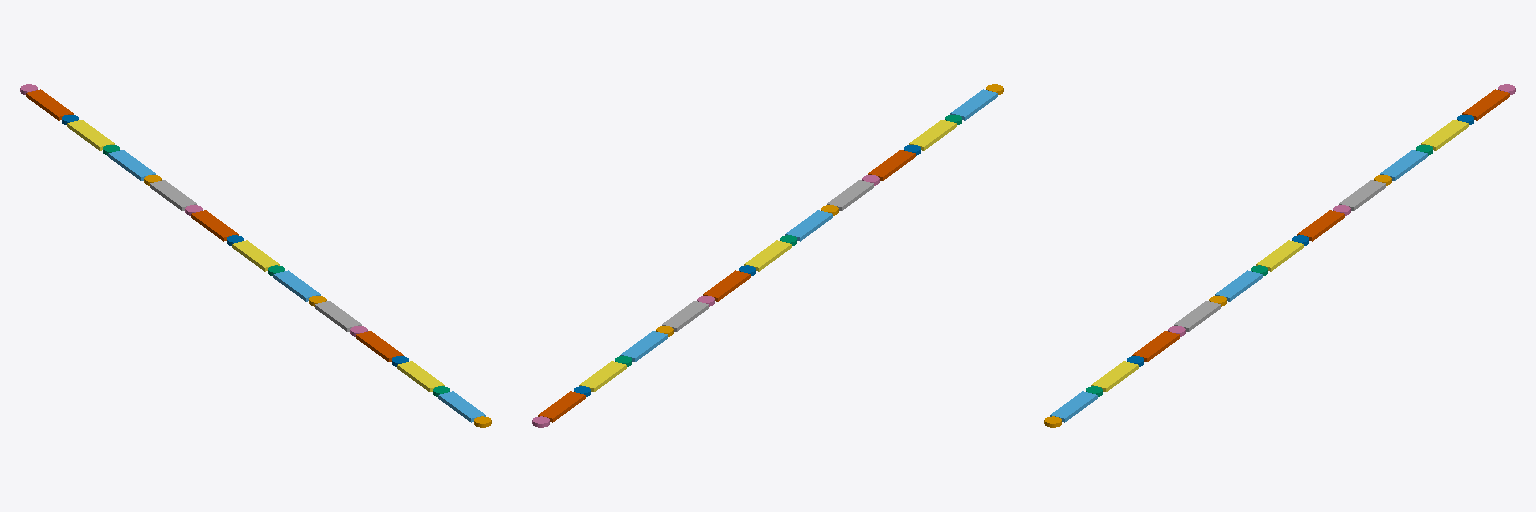
robot.urdf — planar_manipulator/11dof_manip:
<?xml version="1.0"?>
<robot name="planar_manipulator/11dof_manip">
 <link name="jlink0">
  <inertial>
    <mass value="1"/>
    <inertia ixx="0.0108333333333" ixy="0" ixz="0" iyy="0.0108333333333" iyz="0" izz="0.01"/>
  </inertial>
  <visual>
    <origin rpy="0 0 1.57" xyz="0 0 0"/>
    <geometry>
      <cylinder length="0.1" radius="0.2"/>
    </geometry>
  </visual>
  <collision>
    <origin rpy="0 0 1.57" xyz="0 0 0"/>
    <geometry>
      <cylinder length="0.1" radius="0.2"/>
    </geometry>
  </collision>
 </link>

 <link name="link0">
  <inertial>
    <mass value="1"/>
    <inertia ixx="0.0141666666667" ixy="0" ixz="0" iyy="0.200833333333" iyz="0" izz="0.188333333333"/>
  </inertial>
  <visual>
    <origin rpy="0 0 0" xyz="0 0.95 0"/>
    <geometry>
      <box size="0.4 1.5 0.1"/>
    </geometry>
  </visual>
  <collision>
    <origin rpy="0 0 0" xyz="0 0.95 0"/>
    <geometry>
      <box size="0.4 1.5 0.1"/>
    </geometry>
  </collision>
 </link>

<joint name="joint_revolute_jlink0_link0_Z" type="revolute">
  <origin rpy="0 0 0" xyz="0 0 0"/>
  <parent link="jlink0"/>
  <child link="link0"/>
  <axis xyz="0 0 1"/>
  <dynamics damping="0.01" friction="0.5"/>
  <limit lower="-3.14" upper="3.14" effort="0.01" velocity="100"/>
</joint>

 <link name="jlink1">
  <inertial>
    <mass value="1"/>
    <inertia ixx="0.0108333333333" ixy="0" ixz="0" iyy="0.0108333333333" iyz="0" izz="0.01"/>
  </inertial>
  <visual>
    <origin rpy="0 0 1.57" xyz="0 0 0"/>
    <geometry>
      <cylinder length="0.1" radius="0.2"/>
    </geometry>
  </visual>
  <collision>
    <origin rpy="0 0 1.57" xyz="0 0 0"/>
    <geometry>
      <cylinder length="0.1" radius="0.2"/>
    </geometry>
  </collision>
 </link>

<joint name="joint_fixed_link0_jlink1" type="fixed">
  <origin rpy="0 0 0" xyz="0 1.9 0"/>
  <parent link="link0"/>
  <child link="jlink1"/>
</joint>

 <link name="link1">
  <inertial>
    <mass value="1"/>
    <inertia ixx="0.0141666666667" ixy="0" ixz="0" iyy="0.200833333333" iyz="0" izz="0.188333333333"/>
  </inertial>
  <visual>
    <origin rpy="0 0 0" xyz="0 0.95 0"/>
    <geometry>
      <box size="0.4 1.5 0.1"/>
    </geometry>
  </visual>
  <collision>
    <origin rpy="0 0 0" xyz="0 0.95 0"/>
    <geometry>
      <box size="0.4 1.5 0.1"/>
    </geometry>
  </collision>
 </link>

<joint name="joint_revolute_jlink1_link1_Z" type="revolute">
  <origin rpy="0 0 0" xyz="0 0 0"/>
  <parent link="jlink1"/>
  <child link="link1"/>
  <axis xyz="0 0 1"/>
  <dynamics damping="0.01" friction="0.5"/>
  <limit lower="-3.14" upper="3.14" effort="0.01" velocity="100"/>
</joint>

 <link name="jlink2">
  <inertial>
    <mass value="1"/>
    <inertia ixx="0.0108333333333" ixy="0" ixz="0" iyy="0.0108333333333" iyz="0" izz="0.01"/>
  </inertial>
  <visual>
    <origin rpy="0 0 1.57" xyz="0 0 0"/>
    <geometry>
      <cylinder length="0.1" radius="0.2"/>
    </geometry>
  </visual>
  <collision>
    <origin rpy="0 0 1.57" xyz="0 0 0"/>
    <geometry>
      <cylinder length="0.1" radius="0.2"/>
    </geometry>
  </collision>
 </link>

<joint name="joint_fixed_link1_jlink2" type="fixed">
  <origin rpy="0 0 0" xyz="0 1.9 0"/>
  <parent link="link1"/>
  <child link="jlink2"/>
</joint>

 <link name="link2">
  <inertial>
    <mass value="1"/>
    <inertia ixx="0.0141666666667" ixy="0" ixz="0" iyy="0.200833333333" iyz="0" izz="0.188333333333"/>
  </inertial>
  <visual>
    <origin rpy="0 0 0" xyz="0 0.95 0"/>
    <geometry>
      <box size="0.4 1.5 0.1"/>
    </geometry>
  </visual>
  <collision>
    <origin rpy="0 0 0" xyz="0 0.95 0"/>
    <geometry>
      <box size="0.4 1.5 0.1"/>
    </geometry>
  </collision>
 </link>

<joint name="joint_revolute_jlink2_link2_Z" type="revolute">
  <origin rpy="0 0 0" xyz="0 0 0"/>
  <parent link="jlink2"/>
  <child link="link2"/>
  <axis xyz="0 0 1"/>
  <dynamics damping="0.01" friction="0.5"/>
  <limit lower="-3.14" upper="3.14" effort="0.01" velocity="100"/>
</joint>

 <link name="jlink3">
  <inertial>
    <mass value="1"/>
    <inertia ixx="0.0108333333333" ixy="0" ixz="0" iyy="0.0108333333333" iyz="0" izz="0.01"/>
  </inertial>
  <visual>
    <origin rpy="0 0 1.57" xyz="0 0 0"/>
    <geometry>
      <cylinder length="0.1" radius="0.2"/>
    </geometry>
  </visual>
  <collision>
    <origin rpy="0 0 1.57" xyz="0 0 0"/>
    <geometry>
      <cylinder length="0.1" radius="0.2"/>
    </geometry>
  </collision>
 </link>

<joint name="joint_fixed_link2_jlink3" type="fixed">
  <origin rpy="0 0 0" xyz="0 1.9 0"/>
  <parent link="link2"/>
  <child link="jlink3"/>
</joint>

 <link name="link3">
  <inertial>
    <mass value="1"/>
    <inertia ixx="0.0141666666667" ixy="0" ixz="0" iyy="0.200833333333" iyz="0" izz="0.188333333333"/>
  </inertial>
  <visual>
    <origin rpy="0 0 0" xyz="0 0.95 0"/>
    <geometry>
      <box size="0.4 1.5 0.1"/>
    </geometry>
  </visual>
  <collision>
    <origin rpy="0 0 0" xyz="0 0.95 0"/>
    <geometry>
      <box size="0.4 1.5 0.1"/>
    </geometry>
  </collision>
 </link>

<joint name="joint_revolute_jlink3_link3_Z" type="revolute">
  <origin rpy="0 0 0" xyz="0 0 0"/>
  <parent link="jlink3"/>
  <child link="link3"/>
  <axis xyz="0 0 1"/>
  <dynamics damping="0.01" friction="0.5"/>
  <limit lower="-3.14" upper="3.14" effort="0.01" velocity="100"/>
</joint>

 <link name="jlink4">
  <inertial>
    <mass value="1"/>
    <inertia ixx="0.0108333333333" ixy="0" ixz="0" iyy="0.0108333333333" iyz="0" izz="0.01"/>
  </inertial>
  <visual>
    <origin rpy="0 0 1.57" xyz="0 0 0"/>
    <geometry>
      <cylinder length="0.1" radius="0.2"/>
    </geometry>
  </visual>
  <collision>
    <origin rpy="0 0 1.57" xyz="0 0 0"/>
    <geometry>
      <cylinder length="0.1" radius="0.2"/>
    </geometry>
  </collision>
 </link>

<joint name="joint_fixed_link3_jlink4" type="fixed">
  <origin rpy="0 0 0" xyz="0 1.9 0"/>
  <parent link="link3"/>
  <child link="jlink4"/>
</joint>

 <link name="link4">
  <inertial>
    <mass value="1"/>
    <inertia ixx="0.0141666666667" ixy="0" ixz="0" iyy="0.200833333333" iyz="0" izz="0.188333333333"/>
  </inertial>
  <visual>
    <origin rpy="0 0 0" xyz="0 0.95 0"/>
    <geometry>
      <box size="0.4 1.5 0.1"/>
    </geometry>
  </visual>
  <collision>
    <origin rpy="0 0 0" xyz="0 0.95 0"/>
    <geometry>
      <box size="0.4 1.5 0.1"/>
    </geometry>
  </collision>
 </link>

<joint name="joint_revolute_jlink4_link4_Z" type="revolute">
  <origin rpy="0 0 0" xyz="0 0 0"/>
  <parent link="jlink4"/>
  <child link="link4"/>
  <axis xyz="0 0 1"/>
  <dynamics damping="0.01" friction="0.5"/>
  <limit lower="-3.14" upper="3.14" effort="0.01" velocity="100"/>
</joint>

 <link name="jlink5">
  <inertial>
    <mass value="1"/>
    <inertia ixx="0.0108333333333" ixy="0" ixz="0" iyy="0.0108333333333" iyz="0" izz="0.01"/>
  </inertial>
  <visual>
    <origin rpy="0 0 1.57" xyz="0 0 0"/>
    <geometry>
      <cylinder length="0.1" radius="0.2"/>
    </geometry>
  </visual>
  <collision>
    <origin rpy="0 0 1.57" xyz="0 0 0"/>
    <geometry>
      <cylinder length="0.1" radius="0.2"/>
    </geometry>
  </collision>
 </link>

<joint name="joint_fixed_link4_jlink5" type="fixed">
  <origin rpy="0 0 0" xyz="0 1.9 0"/>
  <parent link="link4"/>
  <child link="jlink5"/>
</joint>

 <link name="link5">
  <inertial>
    <mass value="1"/>
    <inertia ixx="0.0141666666667" ixy="0" ixz="0" iyy="0.200833333333" iyz="0" izz="0.188333333333"/>
  </inertial>
  <visual>
    <origin rpy="0 0 0" xyz="0 0.95 0"/>
    <geometry>
      <box size="0.4 1.5 0.1"/>
    </geometry>
  </visual>
  <collision>
    <origin rpy="0 0 0" xyz="0 0.95 0"/>
    <geometry>
      <box size="0.4 1.5 0.1"/>
    </geometry>
  </collision>
 </link>

<joint name="joint_revolute_jlink5_link5_Z" type="revolute">
  <origin rpy="0 0 0" xyz="0 0 0"/>
  <parent link="jlink5"/>
  <child link="link5"/>
  <axis xyz="0 0 1"/>
  <dynamics damping="0.01" friction="0.5"/>
  <limit lower="-3.14" upper="3.14" effort="0.01" velocity="100"/>
</joint>

 <link name="jlink6">
  <inertial>
    <mass value="1"/>
    <inertia ixx="0.0108333333333" ixy="0" ixz="0" iyy="0.0108333333333" iyz="0" izz="0.01"/>
  </inertial>
  <visual>
    <origin rpy="0 0 1.57" xyz="0 0 0"/>
    <geometry>
      <cylinder length="0.1" radius="0.2"/>
    </geometry>
  </visual>
  <collision>
    <origin rpy="0 0 1.57" xyz="0 0 0"/>
    <geometry>
      <cylinder length="0.1" radius="0.2"/>
    </geometry>
  </collision>
 </link>

<joint name="joint_fixed_link5_jlink6" type="fixed">
  <origin rpy="0 0 0" xyz="0 1.9 0"/>
  <parent link="link5"/>
  <child link="jlink6"/>
</joint>

 <link name="link6">
  <inertial>
    <mass value="1"/>
    <inertia ixx="0.0141666666667" ixy="0" ixz="0" iyy="0.200833333333" iyz="0" izz="0.188333333333"/>
  </inertial>
  <visual>
    <origin rpy="0 0 0" xyz="0 0.95 0"/>
    <geometry>
      <box size="0.4 1.5 0.1"/>
    </geometry>
  </visual>
  <collision>
    <origin rpy="0 0 0" xyz="0 0.95 0"/>
    <geometry>
      <box size="0.4 1.5 0.1"/>
    </geometry>
  </collision>
 </link>

<joint name="joint_revolute_jlink6_link6_Z" type="revolute">
  <origin rpy="0 0 0" xyz="0 0 0"/>
  <parent link="jlink6"/>
  <child link="link6"/>
  <axis xyz="0 0 1"/>
  <dynamics damping="0.01" friction="0.5"/>
  <limit lower="-3.14" upper="3.14" effort="0.01" velocity="100"/>
</joint>

 <link name="jlink7">
  <inertial>
    <mass value="1"/>
    <inertia ixx="0.0108333333333" ixy="0" ixz="0" iyy="0.0108333333333" iyz="0" izz="0.01"/>
  </inertial>
  <visual>
    <origin rpy="0 0 1.57" xyz="0 0 0"/>
    <geometry>
      <cylinder length="0.1" radius="0.2"/>
    </geometry>
  </visual>
  <collision>
    <origin rpy="0 0 1.57" xyz="0 0 0"/>
    <geometry>
      <cylinder length="0.1" radius="0.2"/>
    </geometry>
  </collision>
 </link>

<joint name="joint_fixed_link6_jlink7" type="fixed">
  <origin rpy="0 0 0" xyz="0 1.9 0"/>
  <parent link="link6"/>
  <child link="jlink7"/>
</joint>

 <link name="link7">
  <inertial>
    <mass value="1"/>
    <inertia ixx="0.0141666666667" ixy="0" ixz="0" iyy="0.200833333333" iyz="0" izz="0.188333333333"/>
  </inertial>
  <visual>
    <origin rpy="0 0 0" xyz="0 0.95 0"/>
    <geometry>
      <box size="0.4 1.5 0.1"/>
    </geometry>
  </visual>
  <collision>
    <origin rpy="0 0 0" xyz="0 0.95 0"/>
    <geometry>
      <box size="0.4 1.5 0.1"/>
    </geometry>
  </collision>
 </link>

<joint name="joint_revolute_jlink7_link7_Z" type="revolute">
  <origin rpy="0 0 0" xyz="0 0 0"/>
  <parent link="jlink7"/>
  <child link="link7"/>
  <axis xyz="0 0 1"/>
  <dynamics damping="0.01" friction="0.5"/>
  <limit lower="-3.14" upper="3.14" effort="0.01" velocity="100"/>
</joint>

 <link name="jlink8">
  <inertial>
    <mass value="1"/>
    <inertia ixx="0.0108333333333" ixy="0" ixz="0" iyy="0.0108333333333" iyz="0" izz="0.01"/>
  </inertial>
  <visual>
    <origin rpy="0 0 1.57" xyz="0 0 0"/>
    <geometry>
      <cylinder length="0.1" radius="0.2"/>
    </geometry>
  </visual>
  <collision>
    <origin rpy="0 0 1.57" xyz="0 0 0"/>
    <geometry>
      <cylinder length="0.1" radius="0.2"/>
    </geometry>
  </collision>
 </link>

<joint name="joint_fixed_link7_jlink8" type="fixed">
  <origin rpy="0 0 0" xyz="0 1.9 0"/>
  <parent link="link7"/>
  <child link="jlink8"/>
</joint>

 <link name="link8">
  <inertial>
    <mass value="1"/>
    <inertia ixx="0.0141666666667" ixy="0" ixz="0" iyy="0.200833333333" iyz="0" izz="0.188333333333"/>
  </inertial>
  <visual>
    <origin rpy="0 0 0" xyz="0 0.95 0"/>
    <geometry>
      <box size="0.4 1.5 0.1"/>
    </geometry>
  </visual>
  <collision>
    <origin rpy="0 0 0" xyz="0 0.95 0"/>
    <geometry>
      <box size="0.4 1.5 0.1"/>
    </geometry>
  </collision>
 </link>

<joint name="joint_revolute_jlink8_link8_Z" type="revolute">
  <origin rpy="0 0 0" xyz="0 0 0"/>
  <parent link="jlink8"/>
  <child link="link8"/>
  <axis xyz="0 0 1"/>
  <dynamics damping="0.01" friction="0.5"/>
  <limit lower="-3.14" upper="3.14" effort="0.01" velocity="100"/>
</joint>

 <link name="jlink9">
  <inertial>
    <mass value="1"/>
    <inertia ixx="0.0108333333333" ixy="0" ixz="0" iyy="0.0108333333333" iyz="0" izz="0.01"/>
  </inertial>
  <visual>
    <origin rpy="0 0 1.57" xyz="0 0 0"/>
    <geometry>
      <cylinder length="0.1" radius="0.2"/>
    </geometry>
  </visual>
  <collision>
    <origin rpy="0 0 1.57" xyz="0 0 0"/>
    <geometry>
      <cylinder length="0.1" radius="0.2"/>
    </geometry>
  </collision>
 </link>

<joint name="joint_fixed_link8_jlink9" type="fixed">
  <origin rpy="0 0 0" xyz="0 1.9 0"/>
  <parent link="link8"/>
  <child link="jlink9"/>
</joint>

 <link name="link9">
  <inertial>
    <mass value="1"/>
    <inertia ixx="0.0141666666667" ixy="0" ixz="0" iyy="0.200833333333" iyz="0" izz="0.188333333333"/>
  </inertial>
  <visual>
    <origin rpy="0 0 0" xyz="0 0.95 0"/>
    <geometry>
      <box size="0.4 1.5 0.1"/>
    </geometry>
  </visual>
  <collision>
    <origin rpy="0 0 0" xyz="0 0.95 0"/>
    <geometry>
      <box size="0.4 1.5 0.1"/>
    </geometry>
  </collision>
 </link>

<joint name="joint_revolute_jlink9_link9_Z" type="revolute">
  <origin rpy="0 0 0" xyz="0 0 0"/>
  <parent link="jlink9"/>
  <child link="link9"/>
  <axis xyz="0 0 1"/>
  <dynamics damping="0.01" friction="0.5"/>
  <limit lower="-3.14" upper="3.14" effort="0.01" velocity="100"/>
</joint>

 <link name="jlink10">
  <inertial>
    <mass value="1"/>
    <inertia ixx="0.0108333333333" ixy="0" ixz="0" iyy="0.0108333333333" iyz="0" izz="0.01"/>
  </inertial>
  <visual>
    <origin rpy="0 0 1.57" xyz="0 0 0"/>
    <geometry>
      <cylinder length="0.1" radius="0.2"/>
    </geometry>
  </visual>
  <collision>
    <origin rpy="0 0 1.57" xyz="0 0 0"/>
    <geometry>
      <cylinder length="0.1" radius="0.2"/>
    </geometry>
  </collision>
 </link>

<joint name="joint_fixed_link9_jlink10" type="fixed">
  <origin rpy="0 0 0" xyz="0 1.9 0"/>
  <parent link="link9"/>
  <child link="jlink10"/>
</joint>

 <link name="link10">
  <inertial>
    <mass value="1"/>
    <inertia ixx="0.0141666666667" ixy="0" ixz="0" iyy="0.200833333333" iyz="0" izz="0.188333333333"/>
  </inertial>
  <visual>
    <origin rpy="0 0 0" xyz="0 0.95 0"/>
    <geometry>
      <box size="0.4 1.5 0.1"/>
    </geometry>
  </visual>
  <collision>
    <origin rpy="0 0 0" xyz="0 0.95 0"/>
    <geometry>
      <box size="0.4 1.5 0.1"/>
    </geometry>
  </collision>
 </link>

<joint name="joint_revolute_jlink10_link10_Z" type="revolute">
  <origin rpy="0 0 0" xyz="0 0 0"/>
  <parent link="jlink10"/>
  <child link="link10"/>
  <axis xyz="0 0 1"/>
  <dynamics damping="0.01" friction="0.5"/>
  <limit lower="-3.14" upper="3.14" effort="0.01" velocity="100"/>
</joint>

 <link name="jlink11">
  <inertial>
    <mass value="1"/>
    <inertia ixx="0.0108333333333" ixy="0" ixz="0" iyy="0.0108333333333" iyz="0" izz="0.01"/>
  </inertial>
  <visual>
    <origin rpy="0 0 1.57" xyz="0 0 0"/>
    <geometry>
      <cylinder length="0.1" radius="0.2"/>
    </geometry>
  </visual>
  <collision>
    <origin rpy="0 0 1.57" xyz="0 0 0"/>
    <geometry>
      <cylinder length="0.1" radius="0.2"/>
    </geometry>
  </collision>
 </link>

<joint name="joint_fixed_link10_jlink11" type="fixed">
  <origin rpy="0 0 0" xyz="0 1.9 0"/>
  <parent link="link10"/>
  <child link="jlink11"/>
</joint>

  <klampt package_root="../../.." default_acc_max="4" >
  </klampt>
</robot>

--- Facts derived from the render (not from the file) ---
3 views of the same robot in one strip: view 1: azimuth 30°, elevation 25°; view 2: azimuth 150°, elevation 25°; view 3: azimuth 330°, elevation 25° (orthographic).
Robot: planar_manipulator/11dof_manip — 23 links, 22 joints (11 revolute, 11 fixed); root link jlink0; default pose: all joints at 0.
Links seen in each view (by area): view 1: link8, link10, link4, link9, link0, link2, link5, link1, link6, link3, link7; view 2: link0, link2, link1, link6, link5, link8, link10, link4, link9, link7, link3; view 3: link8, link10, link4, link9, link0, link2, link5, link1, link6, link3, link7.
Boxes of the visible links, x1,y1,x2,y2 form: link8: (108, 150, 155, 180); link10: (26, 89, 73, 120); link4: (273, 270, 320, 301); link9: (67, 120, 114, 150); link0: (438, 391, 485, 422); link2: (356, 331, 403, 361); link5: (232, 240, 279, 271); link1: (397, 361, 444, 391); link6: (191, 210, 238, 241); link3: (315, 301, 361, 331); link7: (150, 180, 196, 210); link0: (950, 89, 997, 120); link2: (868, 150, 915, 180); link1: (909, 120, 956, 150); link6: (703, 270, 750, 301); link5: (744, 240, 791, 271); link8: (620, 331, 667, 361); link10: (538, 391, 585, 422); link4: (785, 210, 832, 241); link9: (579, 361, 626, 391); link7: (662, 301, 708, 331); link3: (827, 180, 873, 210); link8: (1380, 150, 1427, 180); link10: (1462, 89, 1509, 120); link4: (1215, 270, 1262, 301); link9: (1421, 120, 1468, 150); link0: (1050, 391, 1097, 422); link2: (1132, 331, 1179, 361); link5: (1256, 240, 1303, 271); link1: (1091, 361, 1138, 391); link6: (1297, 210, 1344, 241); link3: (1174, 301, 1220, 331); link7: (1339, 180, 1385, 210).
Size in the robot's own frame: 0.4 by 21.3 by 0.1 metres.
Geometry: primitives only (box / cylinder / sphere), no mesh files.
